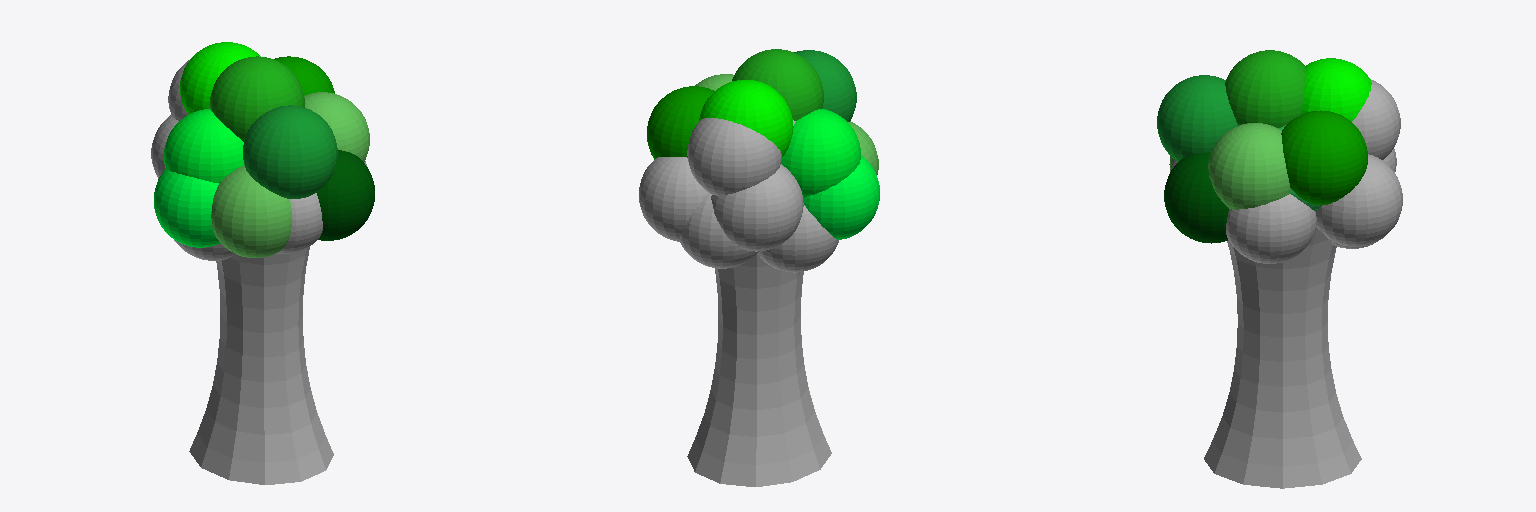
The model's file is tree1.obj.
3 renders of one model, left to right at view 1: azimuth 30°, elevation 25°; view 2: azimuth 150°, elevation 25°; view 3: azimuth 270°, elevation 25°, orthographic.
Visible parts, largest first — view 1: Capsule, Sphere1, Sphere11, Sphere15, Sphere3, Sphere17, Sphere14, Sphere16, Sphere4, Sphere13, Sphere5, Sphere9 (+2 smaller); view 2: Capsule, Sphere, Sphere9, Sphere3, Sphere8, Sphere16, Sphere17, Sphere15, Sphere5, Sphere10, Sphere12, Sphere1 (+1 smaller); view 3: Capsule, Sphere5, Sphere4, Sphere15, Sphere1, Sphere8, Sphere7, Sphere14, Sphere16, Sphere.
Part boxes in pixels (bbox=[...]): Capsule: bbox=[189, 247, 333, 484]; Sphere1: bbox=[243, 105, 337, 198]; Sphere11: bbox=[211, 165, 291, 257]; Sphere15: bbox=[210, 56, 304, 141]; Sphere3: bbox=[164, 109, 243, 182]; Sphere17: bbox=[154, 169, 220, 247]; Sphere14: bbox=[316, 150, 374, 240]; Sphere16: bbox=[180, 42, 260, 114]; Sphere4: bbox=[304, 92, 369, 161]; Sphere13: bbox=[277, 193, 322, 253]; Sphere5: bbox=[274, 56, 334, 95]; Sphere9: bbox=[151, 115, 178, 178]; Capsule: bbox=[687, 253, 831, 486]; Sphere: bbox=[687, 118, 781, 195]; Sphere9: bbox=[711, 164, 803, 251]; Sphere3: bbox=[781, 109, 860, 196]; Sphere8: bbox=[639, 157, 707, 241]; Sphere16: bbox=[699, 80, 793, 156]; Sphere17: bbox=[803, 155, 879, 239]; Sphere15: bbox=[732, 49, 823, 120]; Sphere5: bbox=[647, 86, 714, 159]; Sphere10: bbox=[679, 192, 758, 268]; Sphere12: bbox=[758, 205, 838, 272]; Sphere1: bbox=[794, 50, 856, 121]; Capsule: bbox=[1204, 226, 1361, 488]; Sphere5: bbox=[1281, 110, 1367, 204]; Sphere4: bbox=[1208, 123, 1290, 209]; Sphere15: bbox=[1225, 50, 1305, 127]; Sphere1: bbox=[1157, 75, 1237, 161]; Sphere8: bbox=[1316, 154, 1402, 246]; Sphere7: bbox=[1226, 194, 1316, 263]; Sphere14: bbox=[1164, 152, 1228, 243]; Sphere16: bbox=[1301, 58, 1371, 121]; Sphere: bbox=[1352, 80, 1400, 159].
Size of the model in its own units: 2.45 by 4.63 by 2.59.